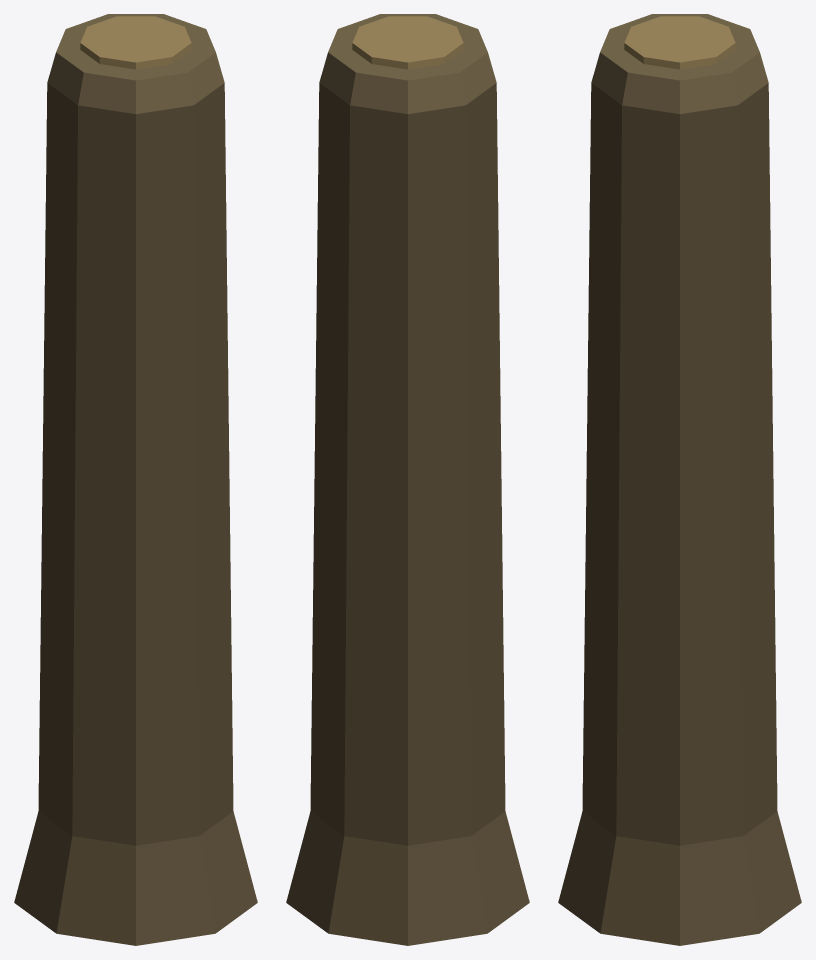
File: timber-post.glb
3 views of the same model, side by side, from view 1: azimuth 30°, elevation 25°; view 2: azimuth 150°, elevation 25°; view 3: azimuth 270°, elevation 25° (orthographic).
Visible parts, largest first — view 1: timber-post__body; view 2: timber-post__body; view 3: timber-post__body.
Boxes of the visible parts, box(x1,y1,x2,y2) form: timber-post__body: box(14, 14, 257, 945); timber-post__body: box(286, 14, 529, 945); timber-post__body: box(558, 14, 801, 945).
Bounding box in the file's own units: 0.4364 × 1.72 × 0.4432.
